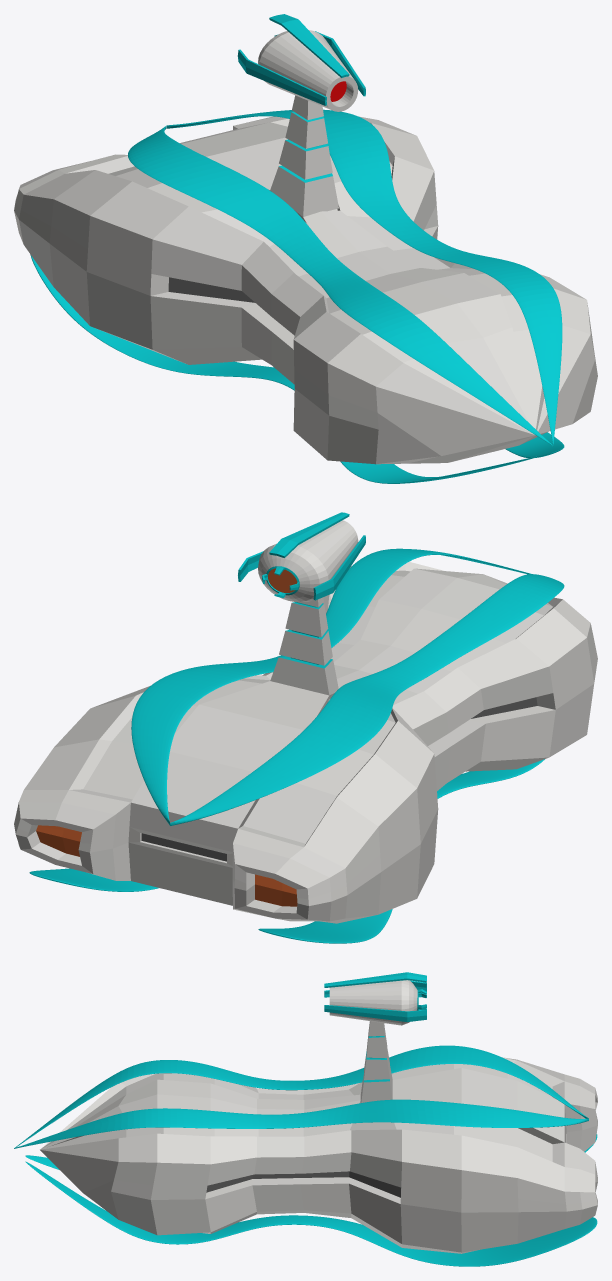
The picture shows the model from 3 angles, top to bottom: view 1: azimuth 30°, elevation 25°; view 2: azimuth 150°, elevation 25°; view 3: azimuth 270°, elevation 25°; orthographic projection. The views are drawn at different scales.
Parts seen in each view (by area): view 1: Body, LowerCurve, Weapon, UpperCurve; view 2: Body, LowerCurve, Weapon, UpperCurve; view 3: Body, LowerCurve, UpperCurve, Weapon.
Boxes of the visible parts, x1,y1,x2,y2 form: Body: (14,116,597,464); LowerCurve: (128,109,562,446); Weapon: (237,14,365,216); UpperCurve: (30,254,564,483); Body: (14,562,597,923); LowerCurve: (131,548,564,825); Weapon: (238,512,365,695); UpperCurve: (29,759,544,943); Body: (40,1057,597,1253); LowerCurve: (14,1045,588,1148); UpperCurve: (25,1134,597,1266); Weapon: (324,972,426,1102).
Bounding box in the file's own units: 323 × 307 × 654.
